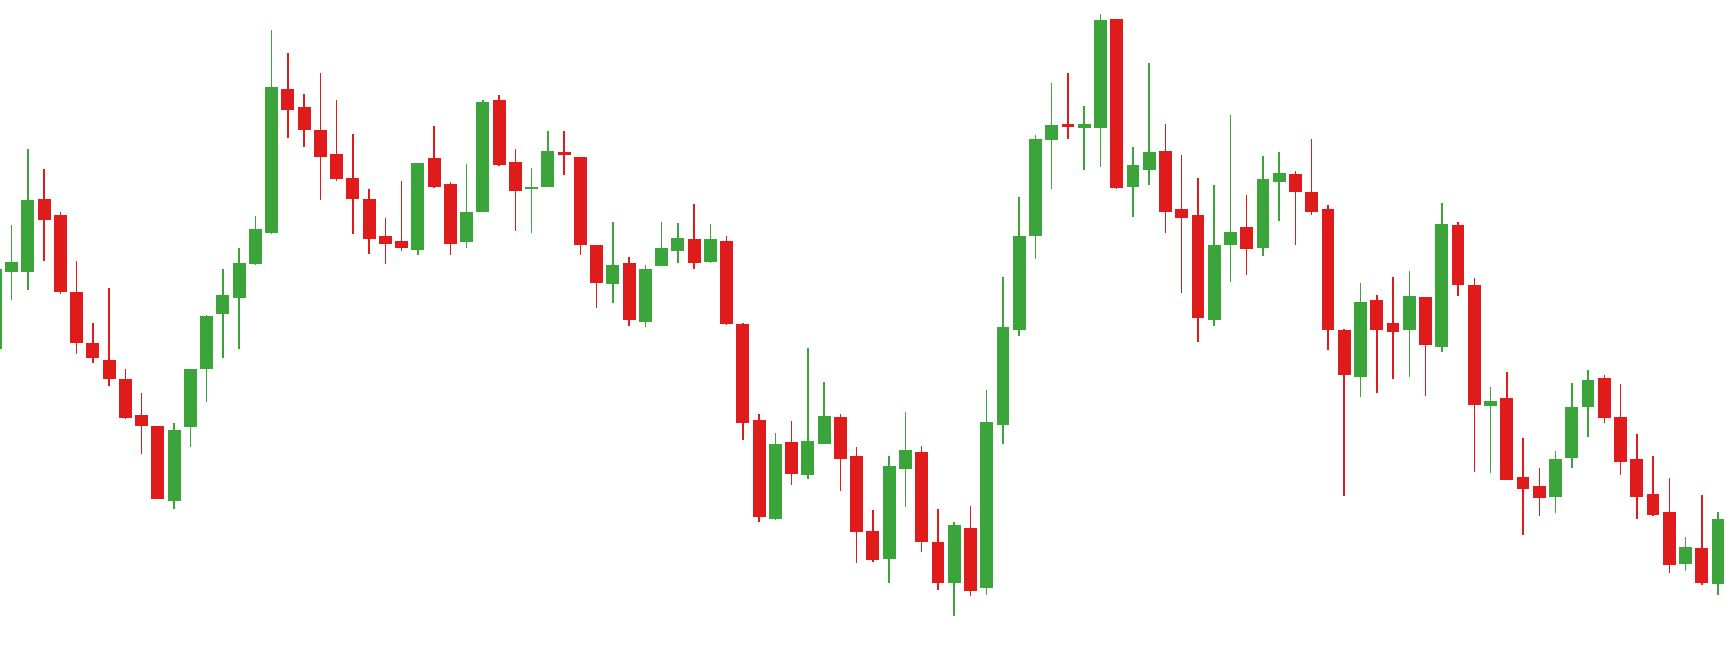buy: (865, 467, 964, 621)
